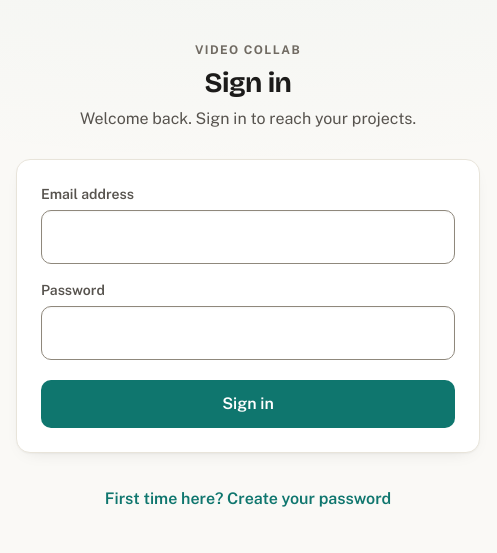
Test: SignInPage › shows wrong-password message assertively on invalid credentials
In the field labelled "Email address": (248, 236) [41,210,455,264], type "a@b.com"
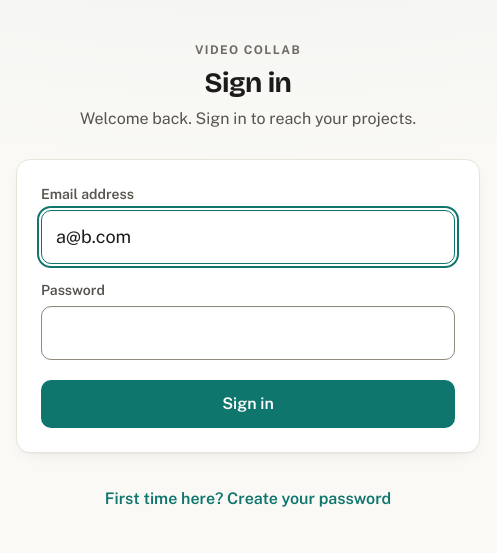
In the password field labelled "Password": (248, 332) [41,306,455,360], type "wrongpass"
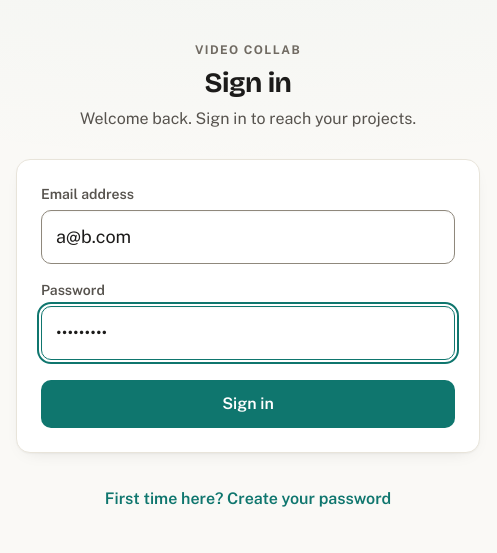
Click the button "Sign in": (248, 404) [41,380,455,428]
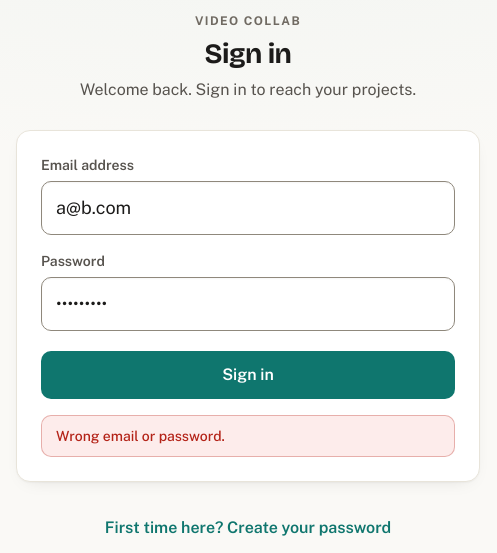
Expected: the text "Wrong email or password." is shown, [41,414,455,456]
